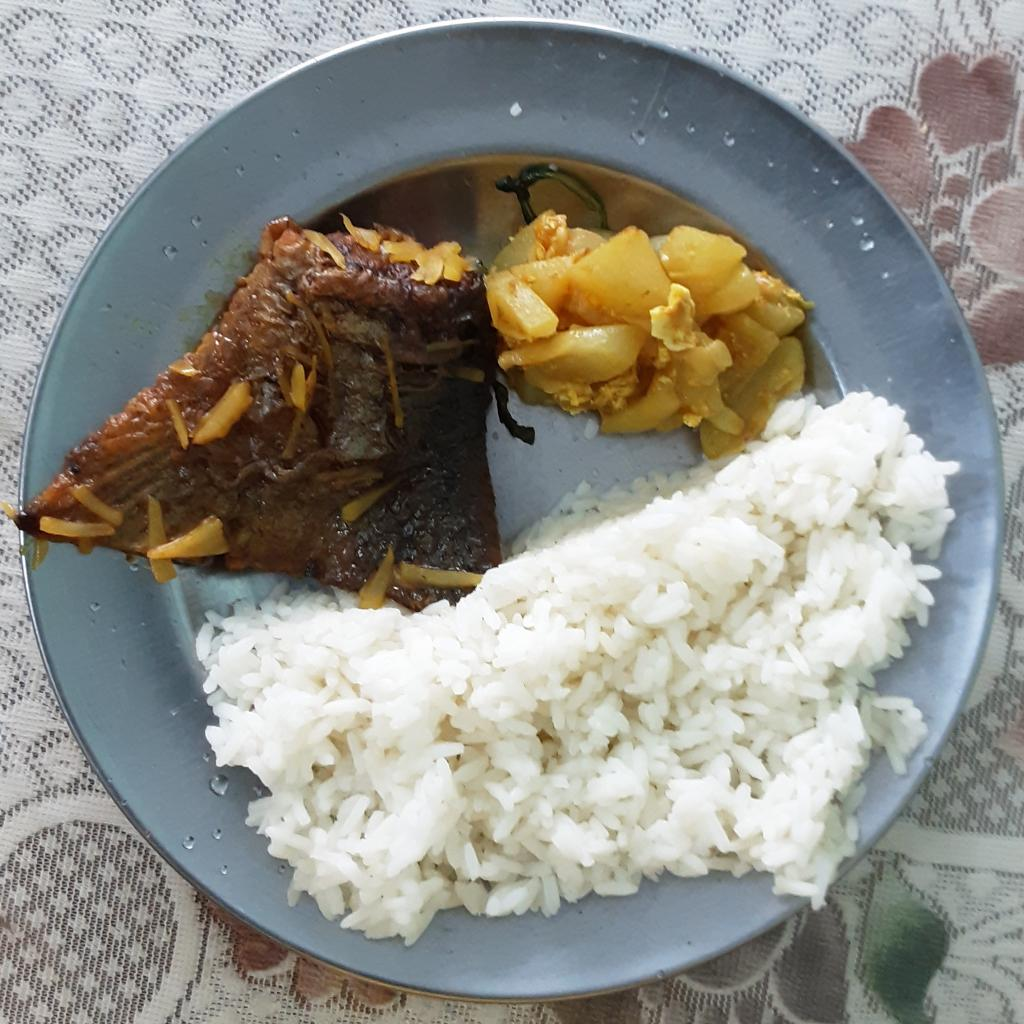fish: (20, 213, 502, 609)
lau: (487, 213, 806, 455)
rice: (189, 389, 962, 950)
